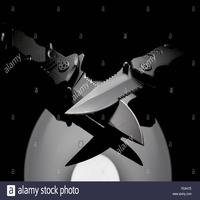knife: (62, 41, 179, 119)
